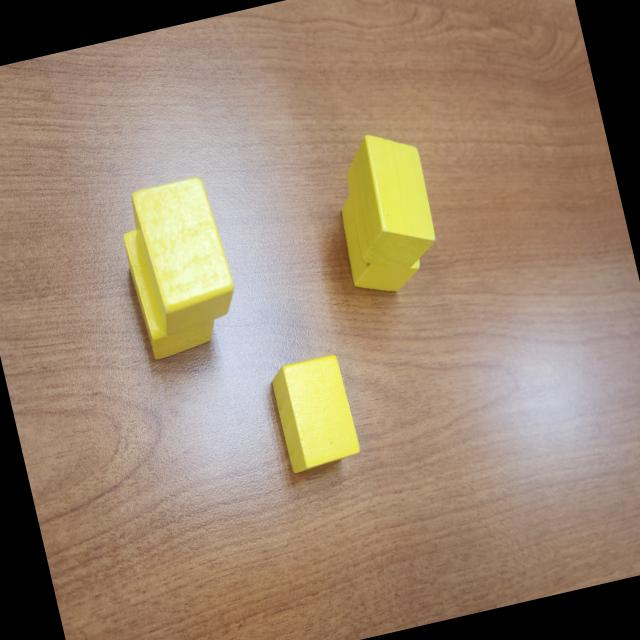yellow: (125, 172, 240, 340), (334, 125, 444, 278), (120, 216, 222, 363), (266, 352, 362, 473), (332, 181, 426, 302)
